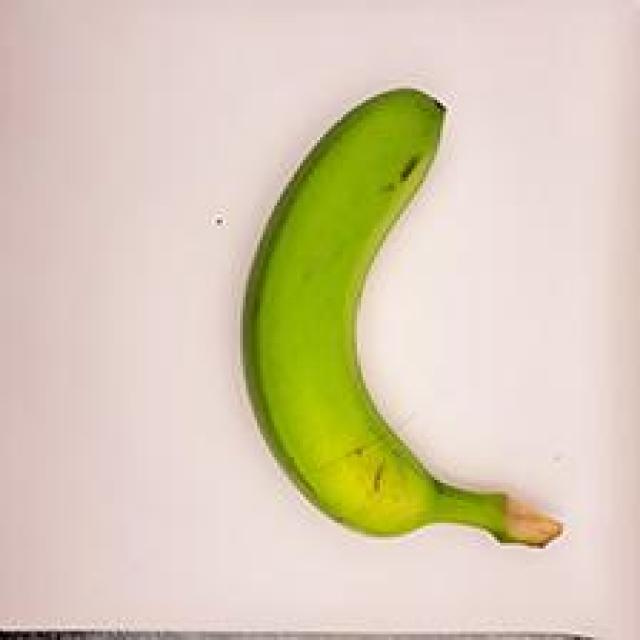Unripe: (214, 65, 598, 585)
